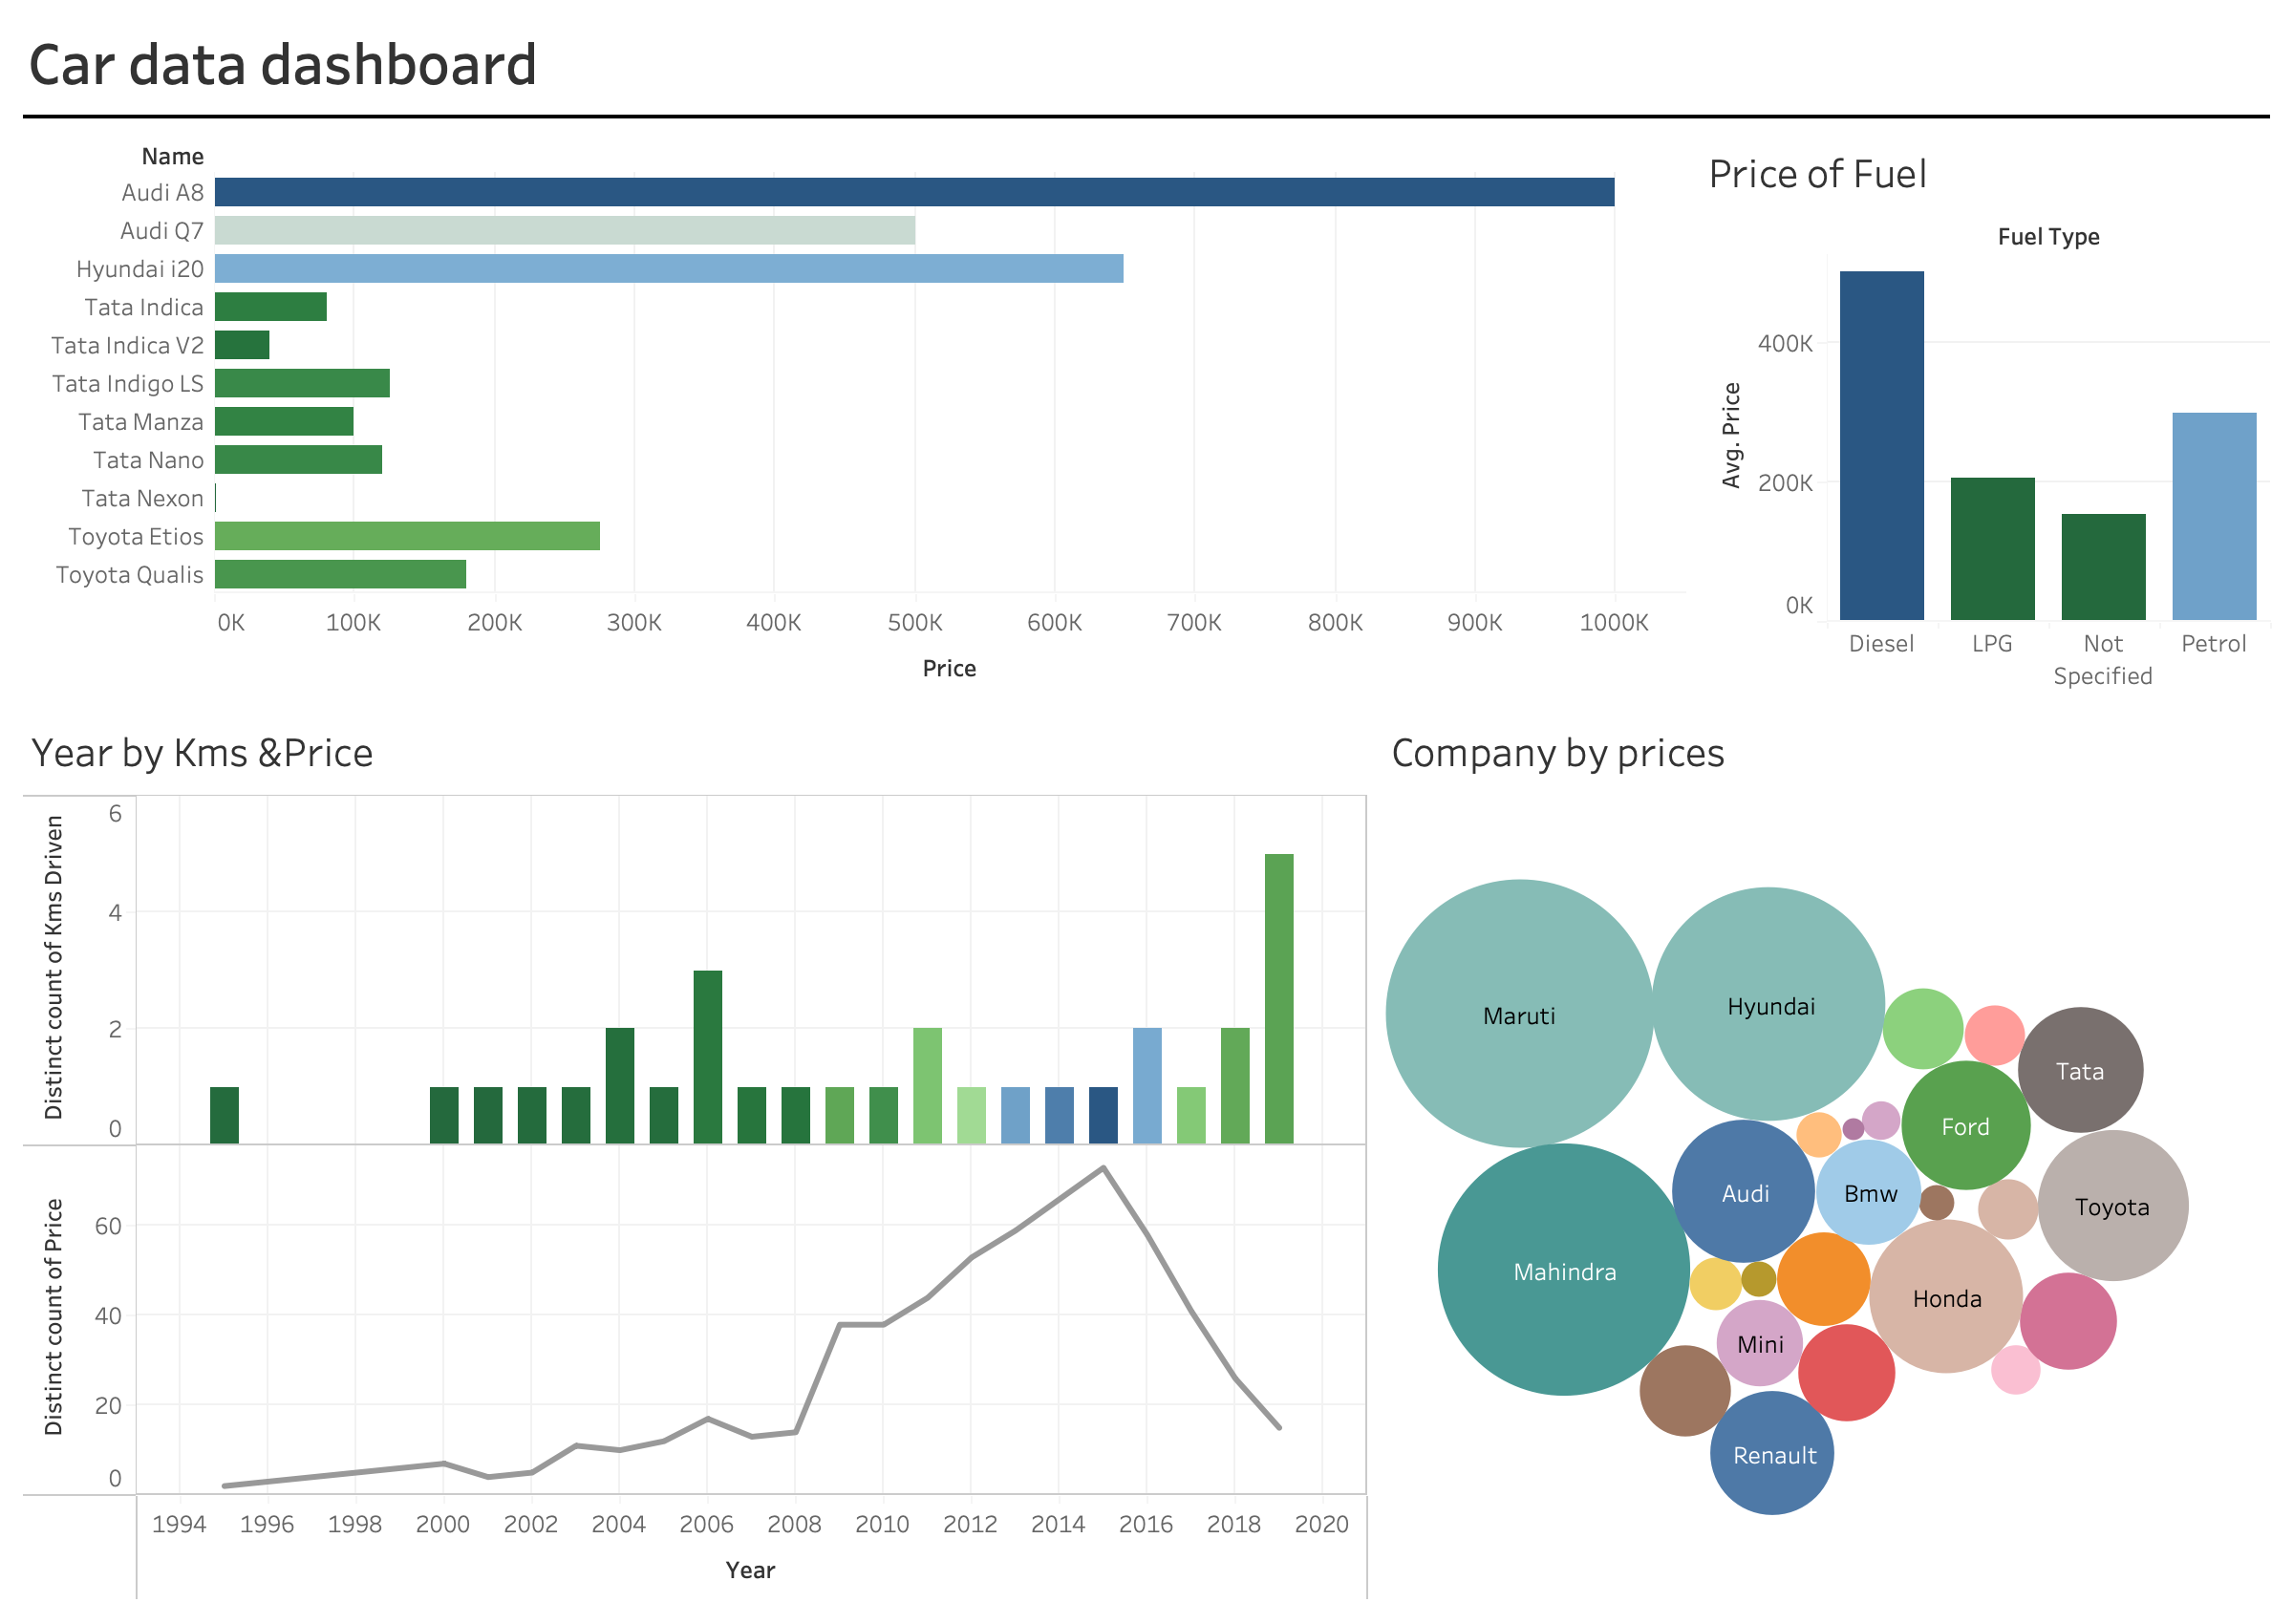

This screenshot's page, from the dashboard's own definition file:
{"tool":"tableau","page":{"name":"Dashboard 1","canvas":[1200,850],"ordinal":0},"visuals":[{"type":"title","box":[8,8,1184,48]},{"type":"blank","box":[8,56,1184,10]},{"type":"worksheet","title":"Price by name","mark":"Automatic","rows":["name"],"cols":["Price"],"box":[8,66,878,303]},{"type":"worksheet","title":"Price of Fuel","mark":"Automatic","rows":["Price"],"cols":["fuel_type"],"box":[886,66,306,303]},{"type":"worksheet","title":"Year by Kms &Price","mark":"Automatic","rows":["kms_driven","Price"],"cols":["year"],"box":[8,369,712,473]},{"type":"worksheet","title":"Company by prices","mark":"Circle","box":[720,369,440,473]}]}

Visuals, with their boxes in screenshot pixels (x1, y1, x2, y2), scaled from the page's 1200x850 canvas onto the 2293x1624 screenshot:
title: {"x1": 15, "y1": 15, "x2": 2278, "y2": 107}
blank: {"x1": 15, "y1": 107, "x2": 2278, "y2": 126}
"Price by name" worksheet: {"x1": 15, "y1": 126, "x2": 1693, "y2": 705}
"Price of Fuel" worksheet: {"x1": 1693, "y1": 126, "x2": 2278, "y2": 705}
"Year by Kms &Price" worksheet: {"x1": 15, "y1": 705, "x2": 1376, "y2": 1609}
"Company by prices" worksheet (Circle marks): {"x1": 1376, "y1": 705, "x2": 2217, "y2": 1609}
